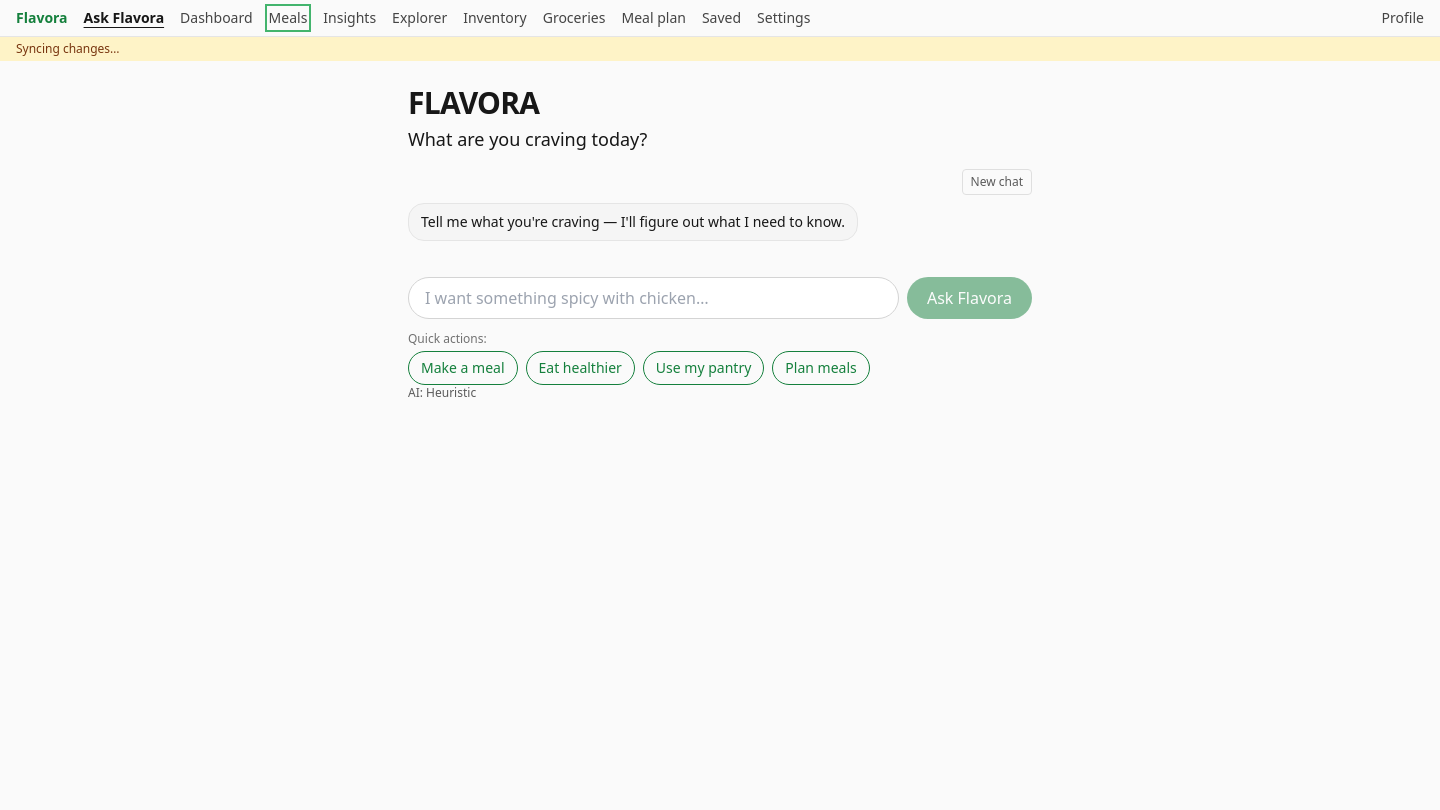
navigation — every item reaches a real page › keyboard: tab reaches nav links and Enter navigates
This screenshot has width=1440, height=810.
Click the link "Meals".
click(288, 18)  # box [269,8,307,28]
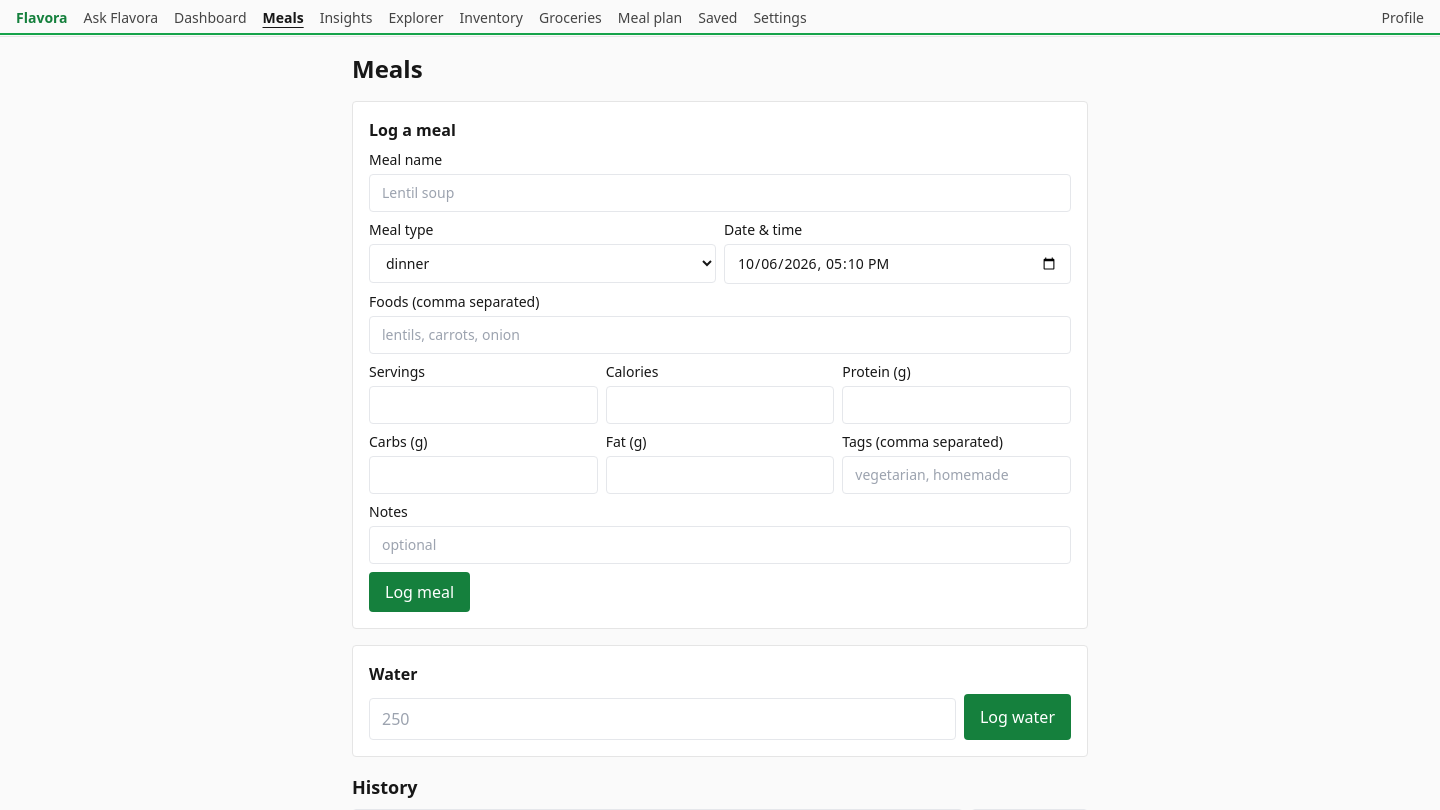
Expected: the heading "Meals" is shown, [352,52,423,85]
